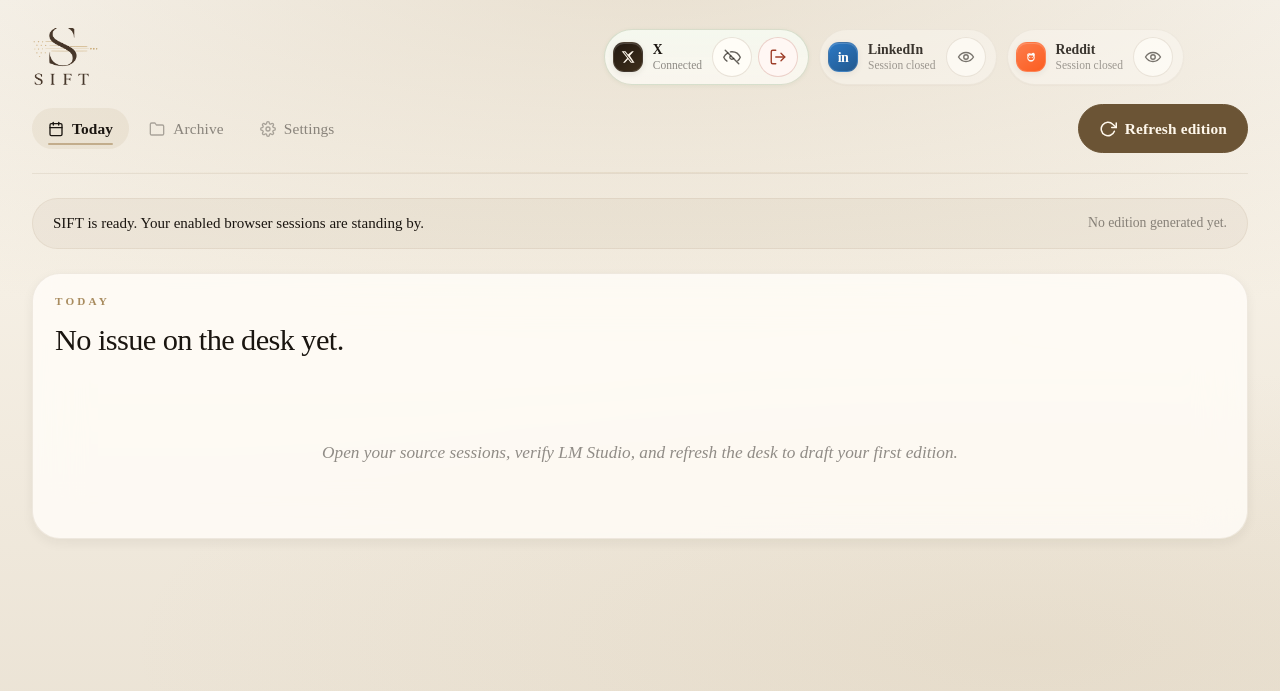
Scenario: App › reloads the desk when the sync response is missing the saved edition
Check: the text "SIFT is ready." is shown, box [53,215,424,231]
Click the button "Refresh edition": x=1163, y=129 [1078,104,1248,153]
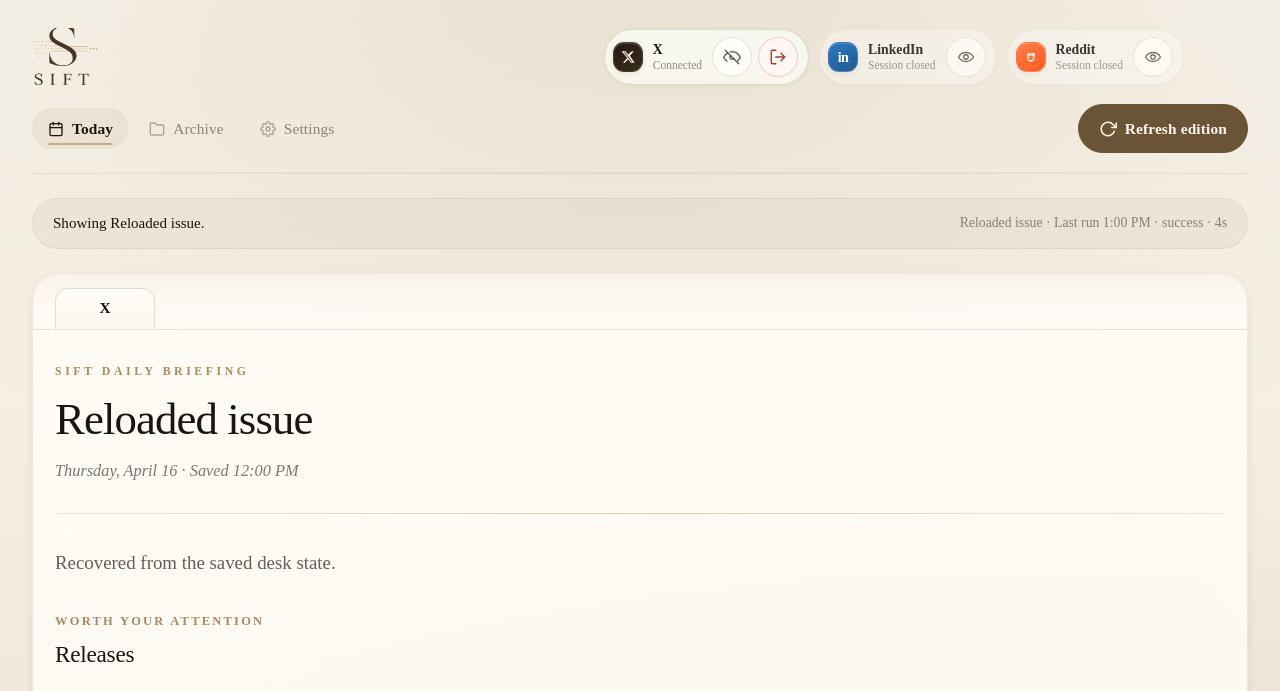
Check: the heading "Reloaded issue" is shown, box [55,394,312,444]
Check: the text "Showing Reloaded issue." is shown, box [53,211,205,236]
